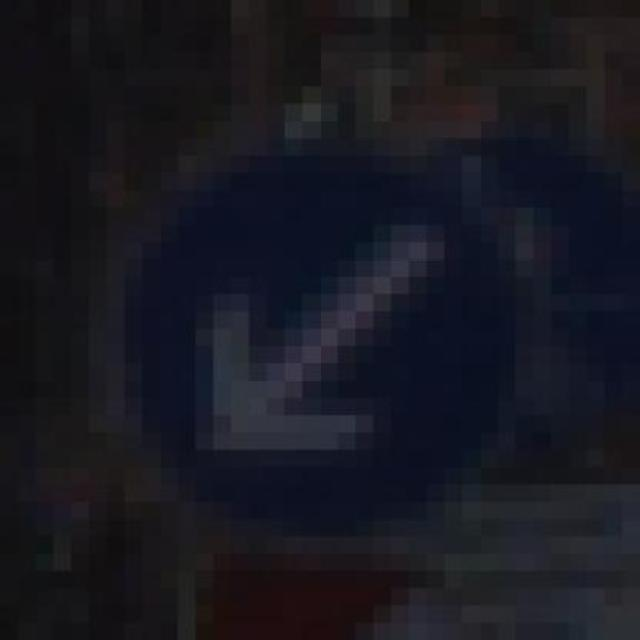Keep-Left: (71, 121, 551, 536)
